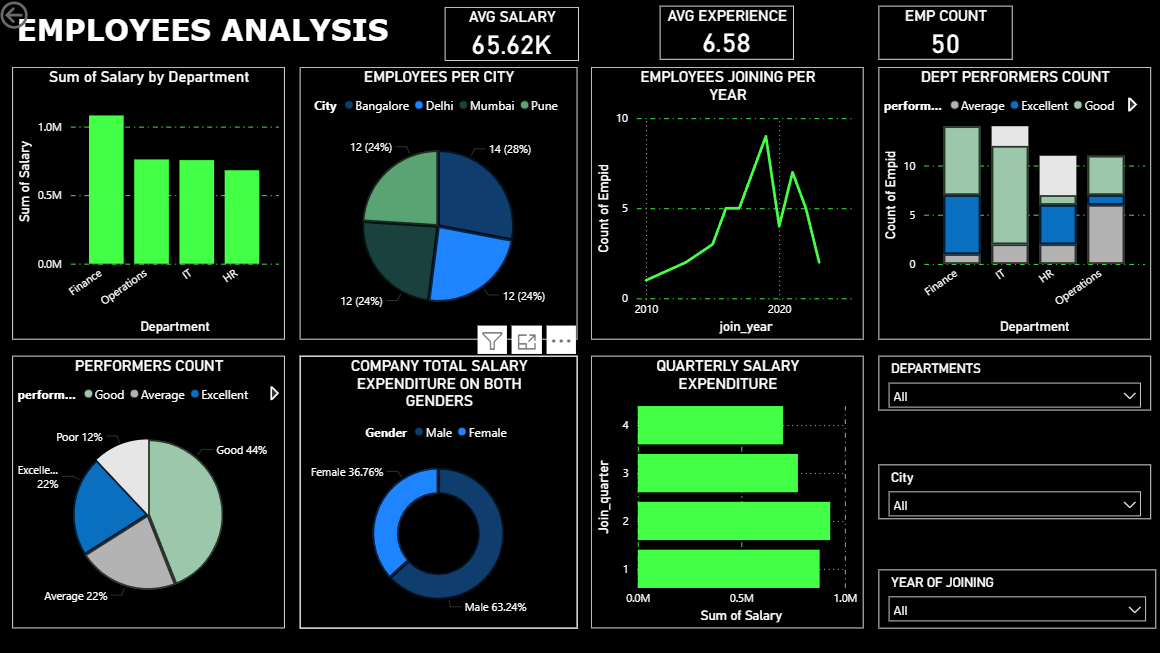

What the dashboard file says about the page in this screenshot:
{"tool":"powerbi","page":{"name":"Page 1","canvas":[1280,720],"ordinal":0},"visuals":[{"type":"textbox","box":[17.8,11,524.2,65.9],"z":0},{"type":"columnChart","fields":{"Category":["employees_db employees_cleaned.Department"],"Y":["Sum(employees_db employees_cleaned.Salary)"]},"box":[17.8,76.8,299.1,299.1],"z":1000},{"type":"pieChart","title":"EMPLOYEES PER CITY","fields":{"Category":["employees_db employees_cleaned.City"],"Y":["CountNonNull(employees_db employees_cleaned.Empid)"]},"box":[333.4,76.8,304.6,299.1],"z":2000},{"type":"lineChart","title":"EMPLOYEES JOINING PER YEAR","fields":{"Category":["employees_db employees_cleaned.join_year"],"Y":["CountNonNull(employees_db employees_cleaned.Empid)"]},"box":[653.2,76.8,299.1,299.1],"z":3000},{"type":"clusteredBarChart","title":"QUARTERLY SALARY EXPENDITURE","fields":{"Category":["employees_db employees_cleaned.Join_quarter"],"Y":["Sum(employees_db employees_cleaned.Salary)"]},"box":[653.2,393.8,299.1,299.1],"z":5000},{"type":"card","title":"AVG SALARY","fields":{"Values":["Avg(employees_db employees_cleaned.Salary)"]},"box":[492.6,11,146.8,59],"z":6000},{"type":"card","title":"EMP COUNT","fields":{"Values":["CountNonNull(employees_db employees_cleaned.Empid)"]},"box":[968.8,9.6,146.8,59],"z":7000},{"type":"actionButton","box":[0,0,100.2,39.8],"z":8000},{"type":"card","title":"AVG EXPERIENCE ","fields":{"Values":["Avg(employees_db employees_cleaned.experience_year)"]},"box":[728.6,9.6,146.8,59],"z":9000},{"type":"pieChart","title":"PERFORMERS COUNT","fields":{"Category":["employees_db employees_cleaned.performance"],"Y":["CountNonNull(employees_db employees_cleaned.Empid)"]},"box":[18,394,299,299],"z":10000},{"type":"columnChart","title":"DEPT PERFORMERS  COUNT","fields":{"Category":["employees_db employees_cleaned.Department"],"Series":["employees_db employees_cleaned.performance"],"Y":["CountNonNull(employees_db employees_cleaned.Empid)"]},"box":[968.8,76.8,299.1,299.1],"z":10001},{"type":"slicer","fields":{"Values":["employees_db employees_cleaned.Department"]},"box":[968.8,393.8,299.1,60.4],"z":10002},{"type":"slicer","fields":{"Values":["employees_db employees_cleaned.City"]},"box":[968.8,513.2,299.1,60.4],"z":10003},{"type":"slicer","title":"YEAR OF JOINING","fields":{"Values":["employees_db employees_cleaned.join_year"]},"box":[968.8,628.5,304.6,64.5],"z":10004},{"type":"donutChart","title":"COMPANY TOTAL SALARY EXPENDITURE ON BOTH GENDERS","fields":{"Category":["employees_db employees_cleaned.Gender"],"Y":["Sum(employees_db employees_cleaned.Salary)"]},"box":[333,394,305,299],"z":10005}]}

Visuals, with their boxes in screenshot pixels (x1, y1, x2, y2), scaled from the page's 1280x720 canvas onto the 1160x653 screenshot:
textbox: region(16, 10, 491, 70)
columnChart - employees_db employees_cleaned.Department x Sum(employees_db employees_cleaned.Salary): region(16, 70, 287, 341)
"EMPLOYEES PER CITY" pieChart: region(302, 70, 578, 341)
"EMPLOYEES JOINING PER YEAR" lineChart: region(592, 70, 863, 341)
"QUARTERLY SALARY EXPENDITURE" clusteredBarChart: region(592, 357, 863, 628)
"AVG SALARY" card: region(446, 10, 579, 63)
"EMP COUNT" card: region(878, 9, 1011, 62)
actionButton: region(0, 0, 91, 36)
"AVG EXPERIENCE " card: region(660, 9, 793, 62)
"PERFORMERS COUNT" pieChart: region(16, 357, 287, 629)
"DEPT PERFORMERS  COUNT" columnChart: region(878, 70, 1149, 341)
slicer - employees_db employees_cleaned.Department: region(878, 357, 1149, 412)
slicer - employees_db employees_cleaned.City: region(878, 465, 1149, 520)
"YEAR OF JOINING" slicer: region(878, 570, 1154, 629)
"COMPANY TOTAL SALARY EXPENDITURE ON BOTH GENDERS" donutChart: region(302, 357, 578, 629)
